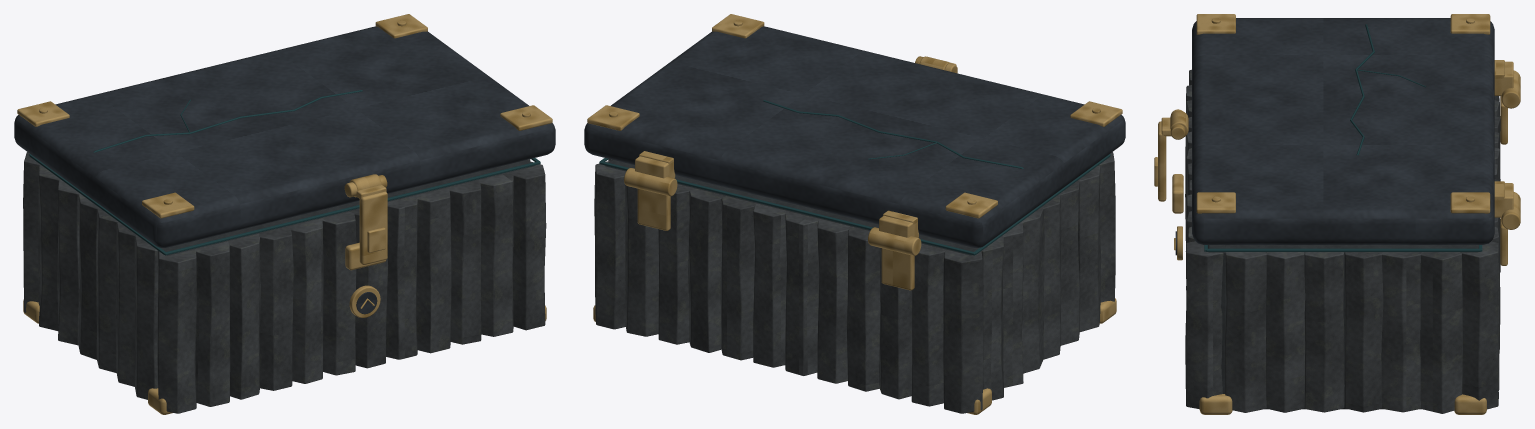
The model's file is iceland.glb.
The picture shows the model from 3 angles, left to right: view 1: azimuth 30°, elevation 25°; view 2: azimuth 150°, elevation 25°; view 3: azimuth 270°, elevation 25°; orthographic projection. The views are drawn at different scales.
Visible parts, largest first — view 1: Lid / polished slab, Basalt column / long -1.07 00, Basalt column / long -1.07 08, Basalt column / long -1.07 01, Basalt column / long -1.07 03, Basalt column / long -1.07 10, Basalt column / long -1.07 11, Basalt column / long -1.07 04, Basalt column / long -1.07 05, Basalt column / long -1.07 09, Basalt column / long -1.07 02, Basalt column / long -1.07 07 (+17 smaller); view 2: Lid / polished slab, Basalt column / long 1.07 00, Basalt column / long 1.07 07, Basalt column / long 1.07 08, Basalt column / long 1.07 05, Basalt column / long 1.07 06, Basalt column / long 1.07 03, Basalt column / long 1.07 11, Basalt column / long 1.07 01, Basalt column / long 1.07 04, Basalt column / long 1.07 09, Basalt column / long 1.07 10 (+22 smaller); view 3: Lid / polished slab, Basalt column / end 1.65 05, Basalt column / end 1.65 00, Basalt column / end 1.65 02, Basalt column / end 1.65 04, Basalt column / end 1.65 01, Basalt column / end 1.65 03, Basalt column / long -1.07 11, Basalt column / long 1.07 11, Interior wall / end.001, Glacial seam / end.001, Lid / brass corner.003 (+14 smaller).
Boxes of the visible parts, left/top/right/bottom form: Lid / polished slab: left=14, top=26, right=555, bottom=247; Basalt column / long -1.07 00: left=157, top=249, right=197, bottom=413; Basalt column / long -1.07 08: left=412, top=188, right=451, bottom=353; Basalt column / long -1.07 01: left=195, top=241, right=230, bottom=406; Basalt column / long -1.07 03: left=259, top=226, right=293, bottom=390; Basalt column / long -1.07 10: left=479, top=173, right=514, bottom=336; Basalt column / long -1.07 11: left=508, top=161, right=546, bottom=330; Basalt column / long -1.07 04: left=286, top=218, right=323, bottom=383; Basalt column / long -1.07 05: left=321, top=212, right=356, bottom=375; Basalt column / long -1.07 09: left=445, top=180, right=481, bottom=344; Basalt column / long -1.07 02: left=225, top=233, right=260, bottom=399; Basalt column / long -1.07 07: left=386, top=195, right=417, bottom=359; Lid / polished slab: left=584, top=26, right=1125, bottom=247; Basalt column / long 1.07 00: left=943, top=250, right=983, bottom=413; Basalt column / long 1.07 07: left=720, top=196, right=755, bottom=360; Basalt column / long 1.07 08: left=688, top=188, right=726, bottom=352; Basalt column / long 1.07 05: left=785, top=210, right=819, bottom=375; Basalt column / long 1.07 06: left=753, top=203, right=789, bottom=367; Basalt column / long 1.07 03: left=847, top=226, right=880, bottom=391; Basalt column / long 1.07 11: left=594, top=160, right=625, bottom=329; Basalt column / long 1.07 01: left=911, top=243, right=947, bottom=406; Basalt column / long 1.07 04: left=817, top=218, right=853, bottom=383; Basalt column / long 1.07 09: left=658, top=184, right=696, bottom=344; Basalt column / long 1.07 10: left=625, top=185, right=658, bottom=336; Lid / polished slab: left=1192, top=18, right=1494, bottom=244; Basalt column / end 1.65 05: left=1420, top=252, right=1462, bottom=413; Basalt column / end 1.65 00: left=1224, top=252, right=1266, bottom=412; Basalt column / end 1.65 02: left=1304, top=252, right=1344, bottom=412; Basalt column / end 1.65 04: left=1381, top=252, right=1421, bottom=412; Basalt column / end 1.65 01: left=1266, top=252, right=1305, bottom=412; Basalt column / end 1.65 03: left=1344, top=252, right=1383, bottom=412; Basalt column / long -1.07 11: left=1185, top=241, right=1223, bottom=409; Basalt column / long 1.07 11: left=1462, top=241, right=1498, bottom=409; Interior wall / end.001: left=1225, top=245, right=1461, bottom=384; Glacial seam / end.001: left=1206, top=248, right=1480, bottom=251; Lid / brass corner.003: left=1450, top=192, right=1490, bottom=213.
Bounding box in the file's own units: 3.72 × 1.83 × 2.88.
5 materials, 4 textured.
